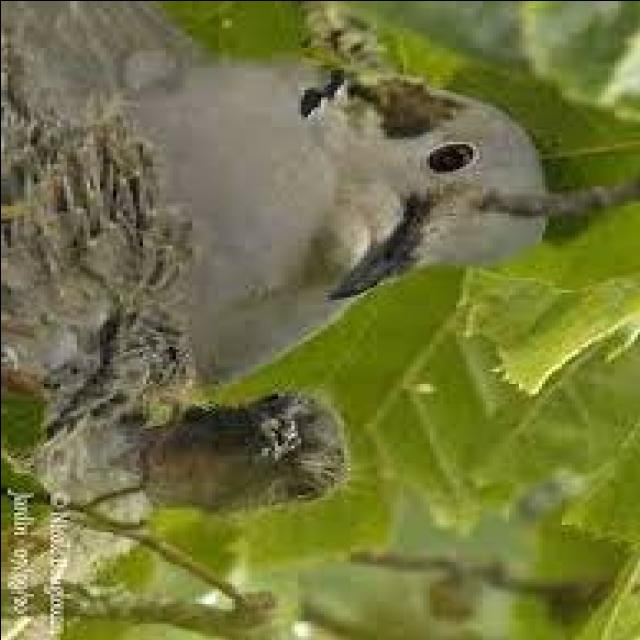pigeon: (0, 29, 598, 388)
